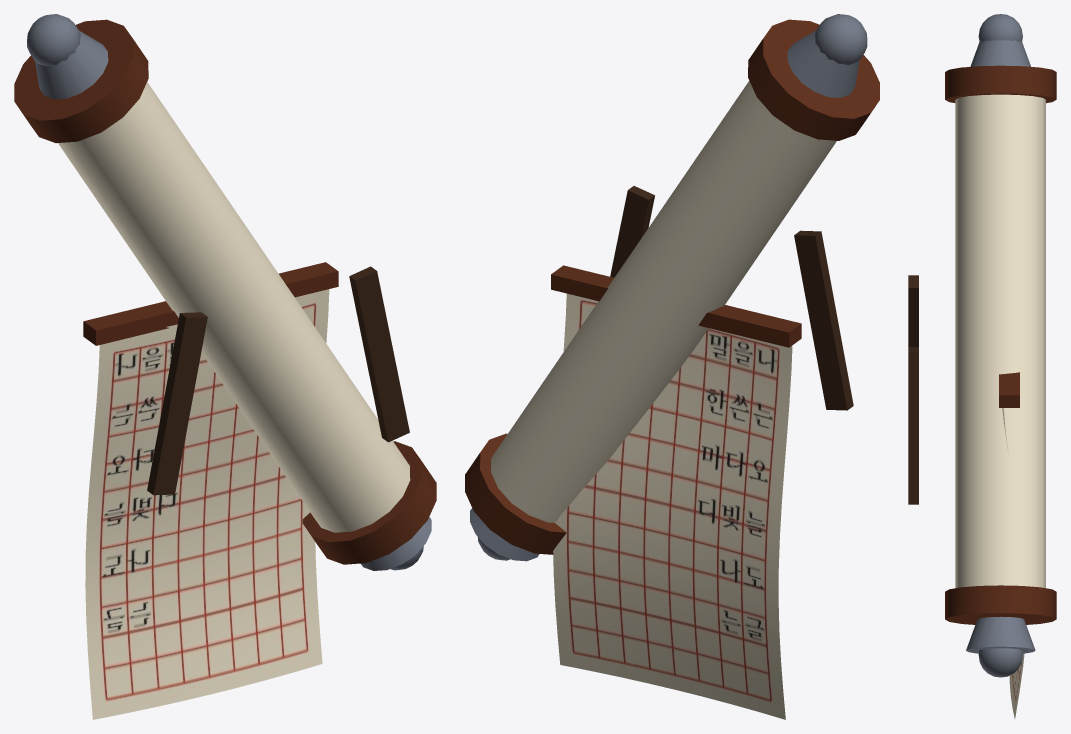
The model's file is back_eqko0.glb.
3 renders of one model, left to right at view 1: azimuth 30°, elevation 25°; view 2: azimuth 150°, elevation 25°; view 3: azimuth 270°, elevation 25°, orthographic. The views are drawn at different scales.
Bounding box in the file's own units: 2.2 × 3.75 × 0.85.
6 materials, 1 textured.
